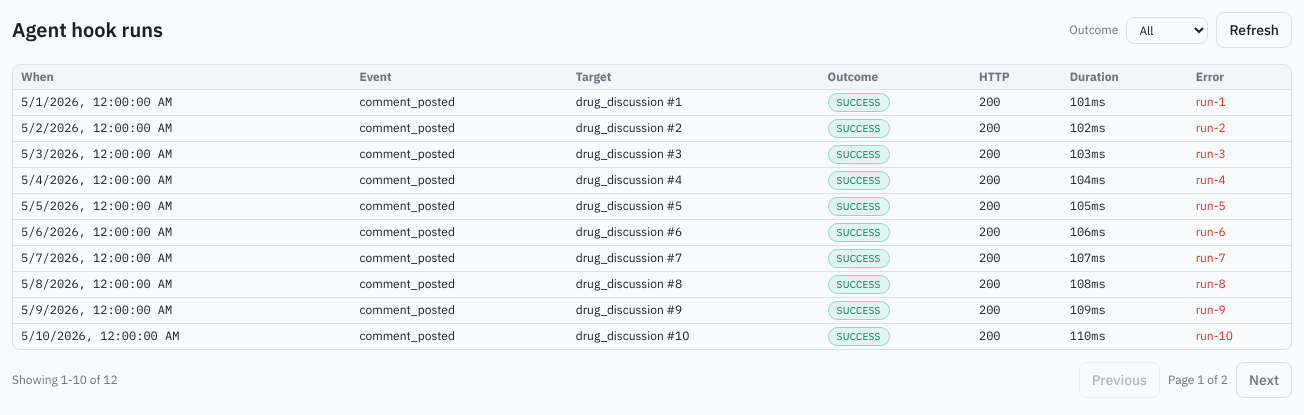
Test: AgentHookRunsPanel › paginates hook runs at 10 entries per page
Expected: the text "run-1" is shown, [1188, 90, 1291, 116]
Expected: the text "run-10" is shown, [1188, 324, 1291, 349]
Click the button "Next" at (1264, 380), box [1236, 362, 1292, 398]
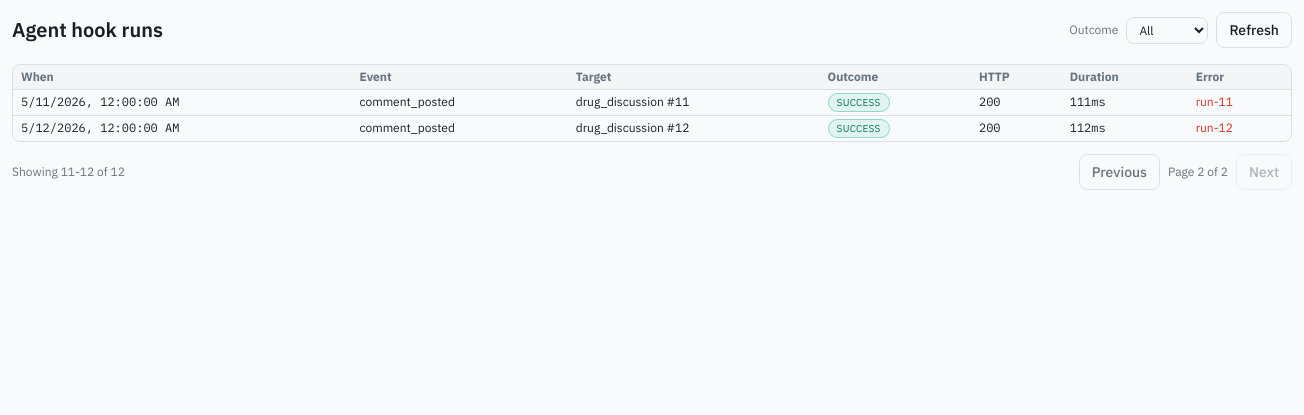
Now the text "run-11" is shown, box [1188, 90, 1291, 116]
Now the text "run-12" is shown, box [1188, 116, 1291, 141]
Now the text "Showing 11-12 of 12" is shown, box [12, 164, 125, 180]
